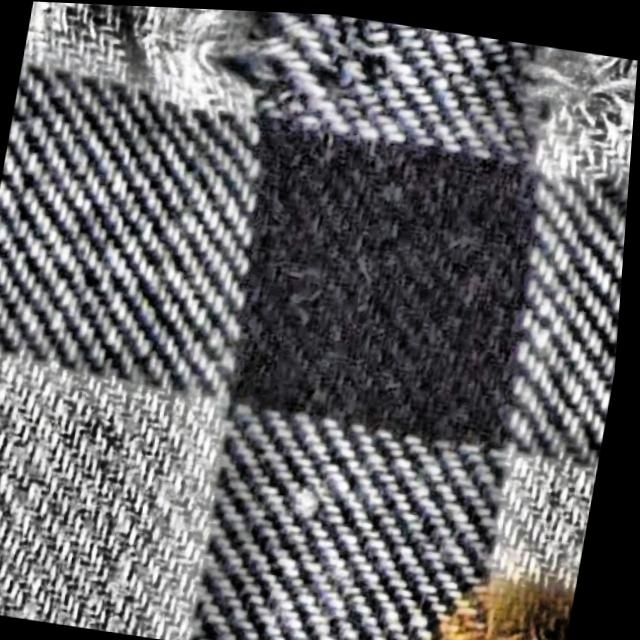Stitch: (54, 0, 638, 210), (452, 22, 639, 245)
